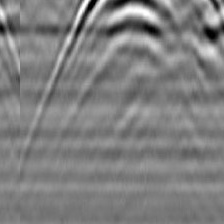Utility: (51, 0, 224, 63)
